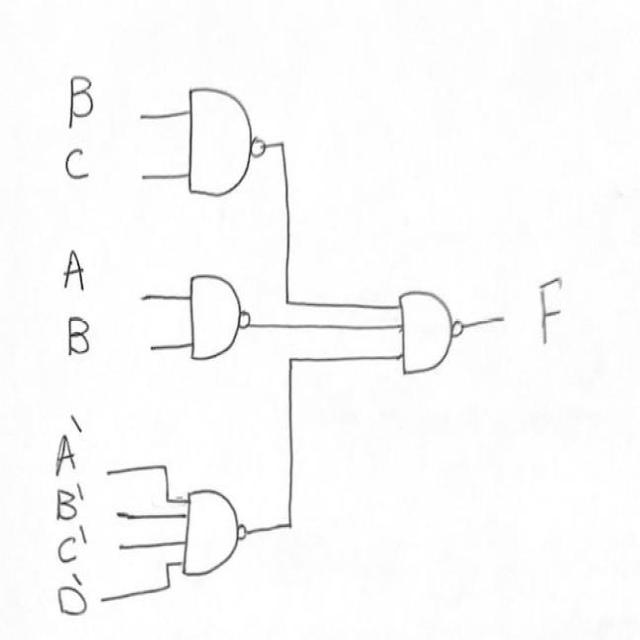NAND: (179, 74, 269, 212), (178, 471, 256, 587), (390, 280, 472, 387), (179, 260, 251, 371)
